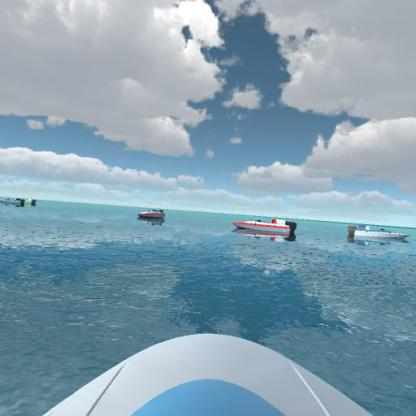usv0: (25, 196, 40, 209)
usv1: (344, 219, 410, 249), (1, 194, 25, 209)
usv3: (229, 209, 302, 244), (136, 206, 166, 223)
